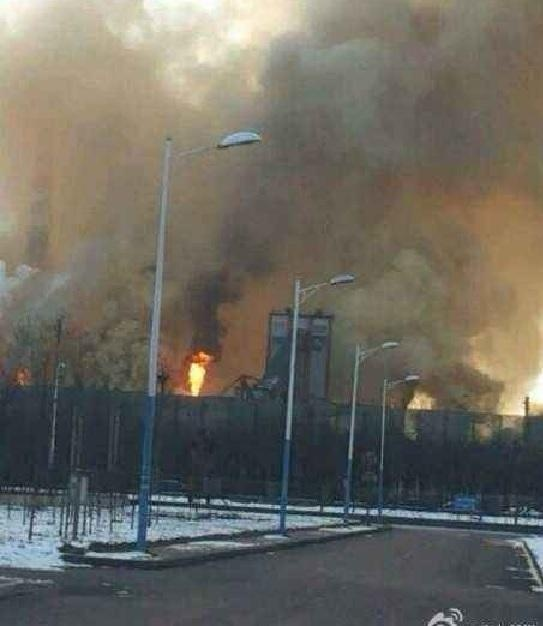fire: (183, 350, 210, 396)
